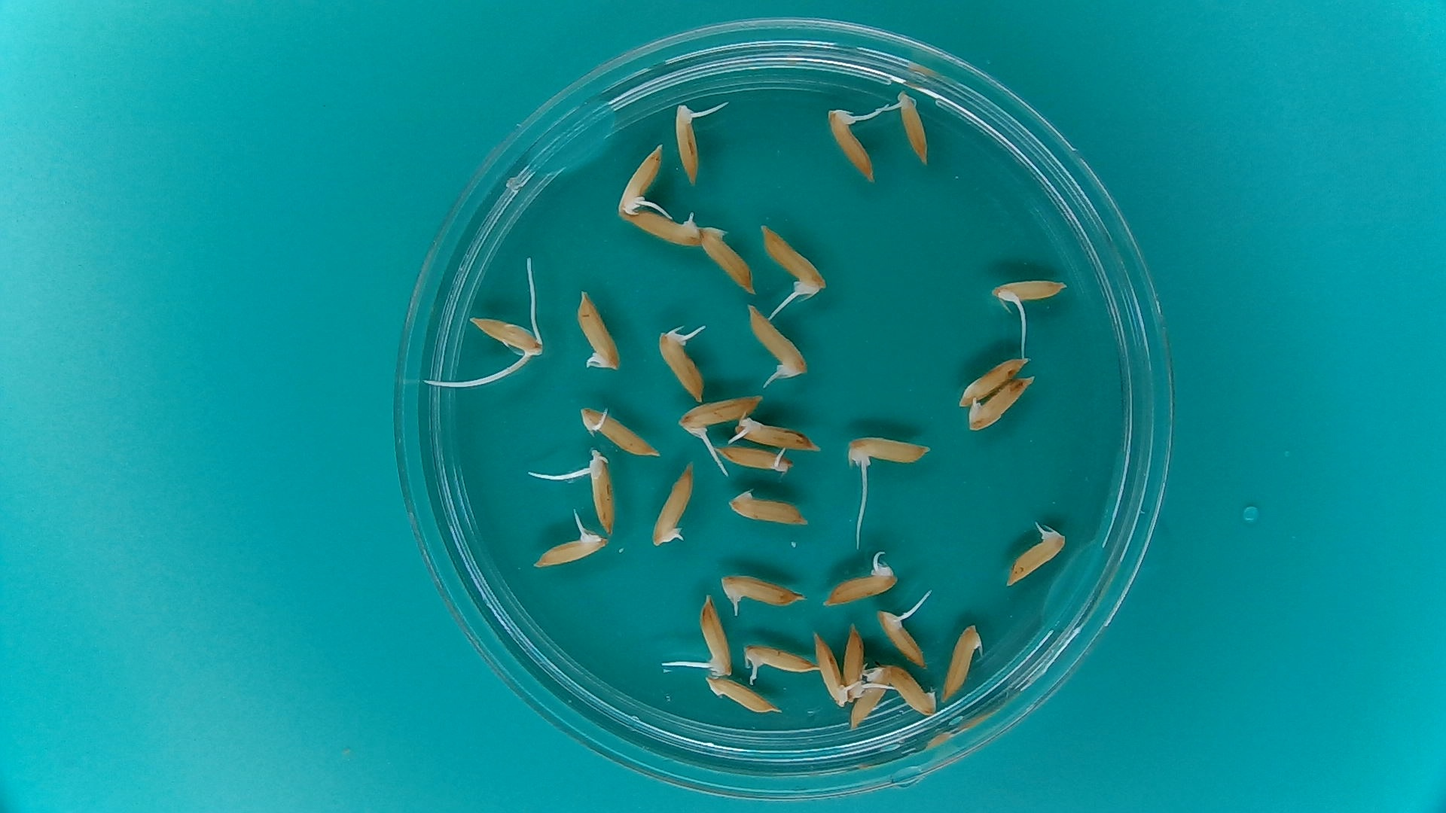no: (699, 223, 758, 295), (953, 353, 1030, 408), (940, 620, 987, 703), (725, 486, 811, 528), (871, 662, 939, 715), (705, 674, 776, 714)
yes: (756, 221, 828, 303), (575, 402, 662, 460), (746, 303, 809, 383), (1002, 516, 1069, 589), (654, 316, 710, 403), (820, 553, 900, 609), (965, 371, 1039, 431), (574, 285, 622, 375), (649, 458, 697, 547), (466, 312, 545, 366), (824, 105, 877, 185), (674, 391, 762, 437), (615, 138, 665, 217), (529, 521, 611, 569), (692, 591, 735, 679), (672, 99, 715, 186), (718, 571, 807, 613), (844, 431, 932, 473), (810, 626, 855, 708), (874, 601, 929, 668), (728, 413, 820, 452), (578, 447, 618, 535), (849, 660, 893, 738), (627, 208, 705, 248), (888, 88, 929, 164), (712, 443, 796, 479), (742, 641, 818, 679), (986, 274, 1070, 308), (842, 622, 869, 702)
